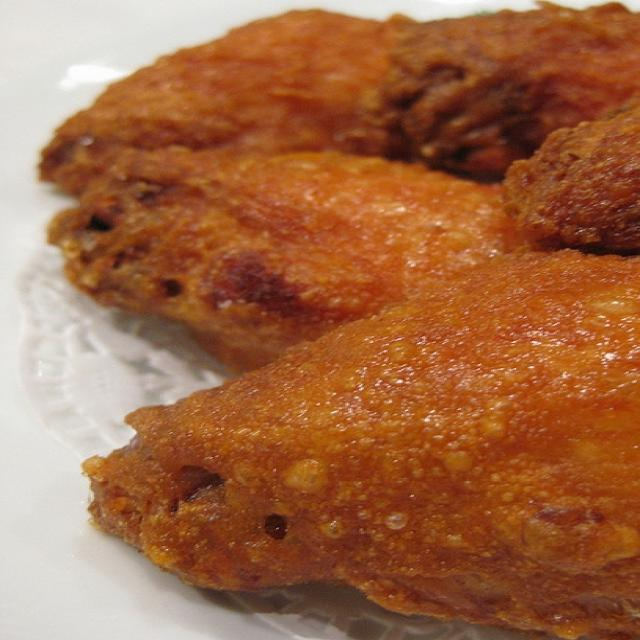鸡肉料理 含炸鸡: (33, 31, 626, 613)
